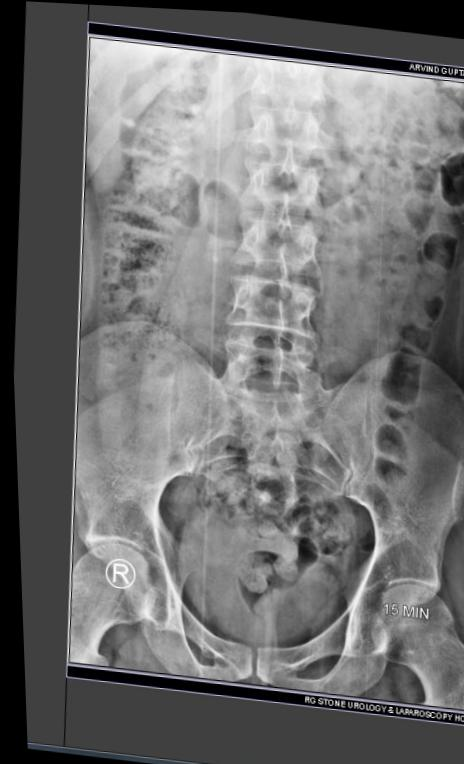vertebrae: (243, 70, 329, 133)
